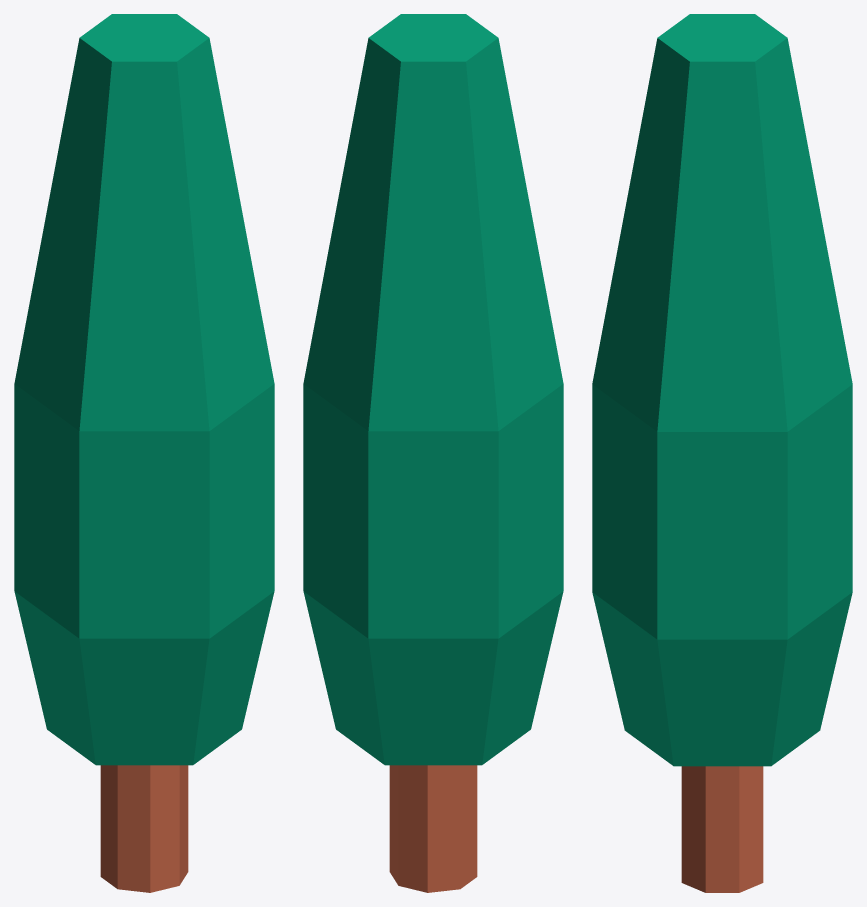
Rendered from wood.fbx.
The picture shows the model from 3 angles, left to right: view 1: azimuth 30°, elevation 25°; view 2: azimuth 150°, elevation 25°; view 3: azimuth 270°, elevation 25°; orthographic projection.
Visible parts, largest first — view 1: mergedBlocks; view 2: mergedBlocks; view 3: mergedBlocks.
Part boxes in pixels (x1,y1,x2,y2): mergedBlocks: (14, 14, 274, 892); mergedBlocks: (303, 14, 563, 892); mergedBlocks: (592, 14, 852, 892).
Bounding box in the file's own units: 10 × 40.98 × 11.55.
